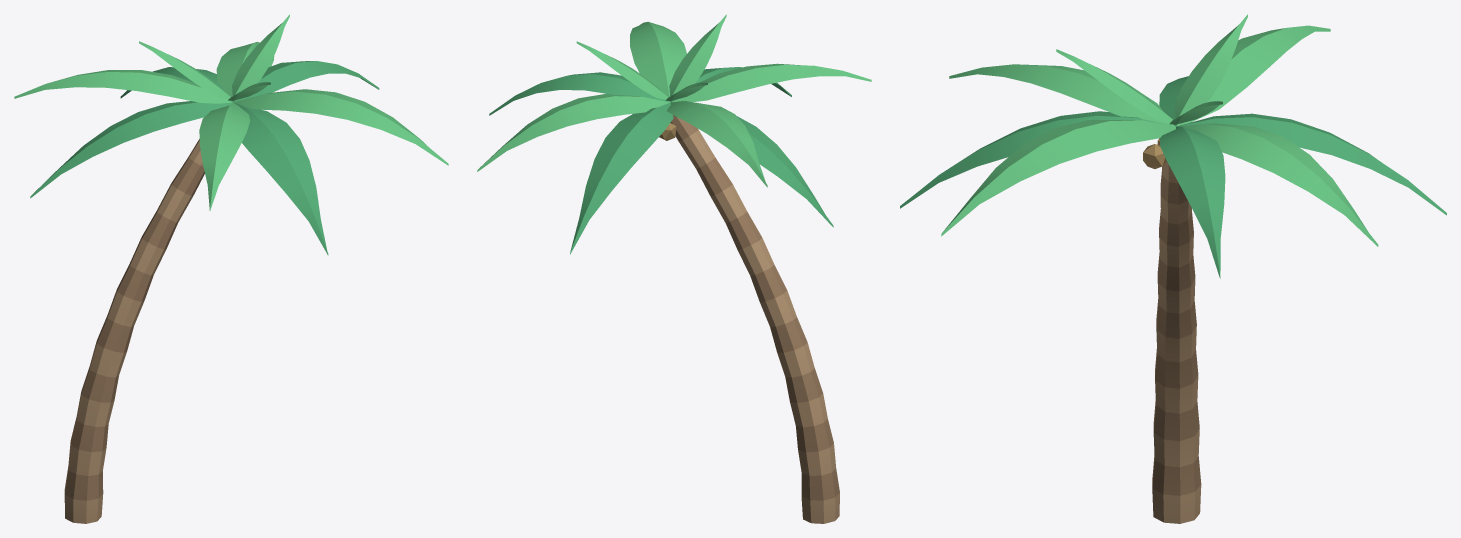
The model's file is palmeira_b.glb.
3 renders of one model, left to right at view 1: azimuth 30°, elevation 25°; view 2: azimuth 150°, elevation 25°; view 3: azimuth 270°, elevation 25°, orthographic. The views are drawn at different scales.
Visible parts, largest first — view 1: palmeira_b; view 2: palmeira_b; view 3: palmeira_b.
Boxes of the visible parts, x1,y1,x2,y2 form: palmeira_b: (14,14,448,523); palmeira_b: (477,14,871,523); palmeira_b: (900,14,1446,523).
Size of the model in its own units: 5.08 by 6.08 by 5.45.
